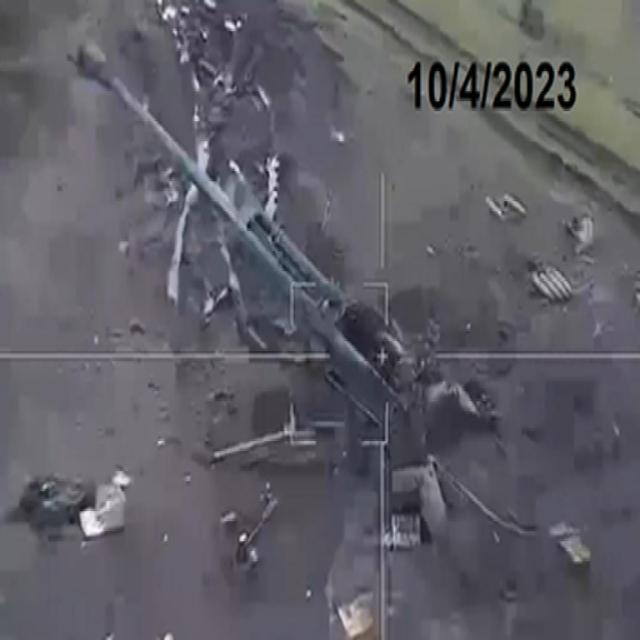ART: (72, 36, 476, 542)
